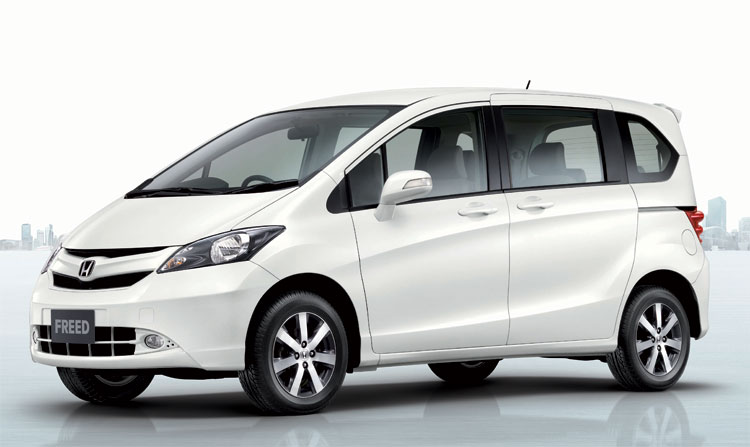sedan: (27, 83, 712, 418)
